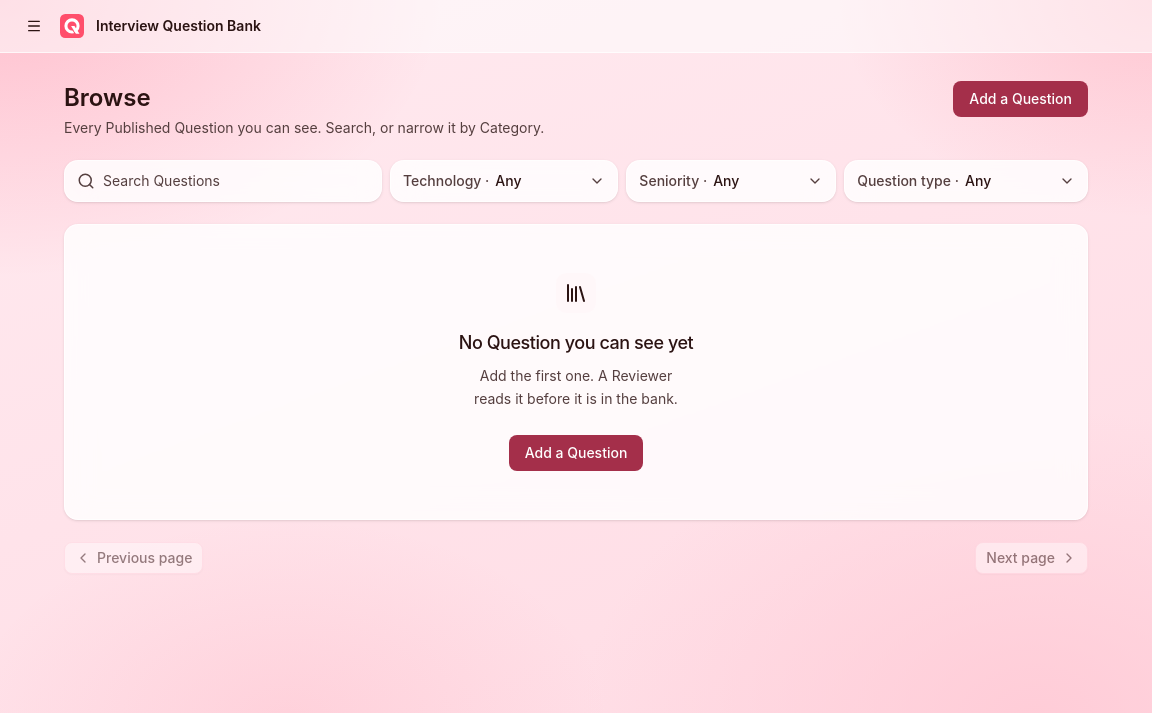
Test: adding a Question › sends the text, Answer Notes, Tags and Provenance, then opens the new Question
The width and height of the screenshot is (1152, 713).
Note: Browse's own button, not the sidebar's link to the same page.
Click the link "Add a Question" in the row of "Browse" at (1021, 99), box [953,81,1088,117]
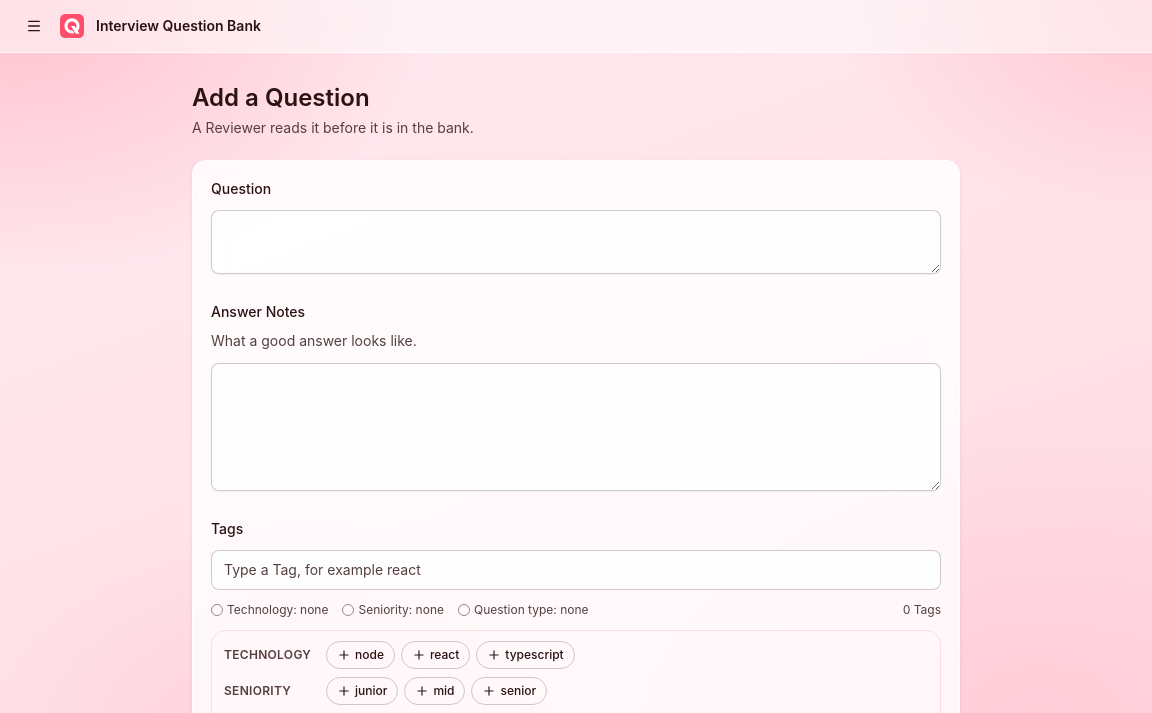
Type "How would you find a slow query?" into the text box labelled "Question" at (576, 242), box [211,210,941,274]
Type "Look for EXPLAIN ANALYZE before any guessing." into the text box labelled "Answer Notes" at (576, 426), box [211,362,941,490]
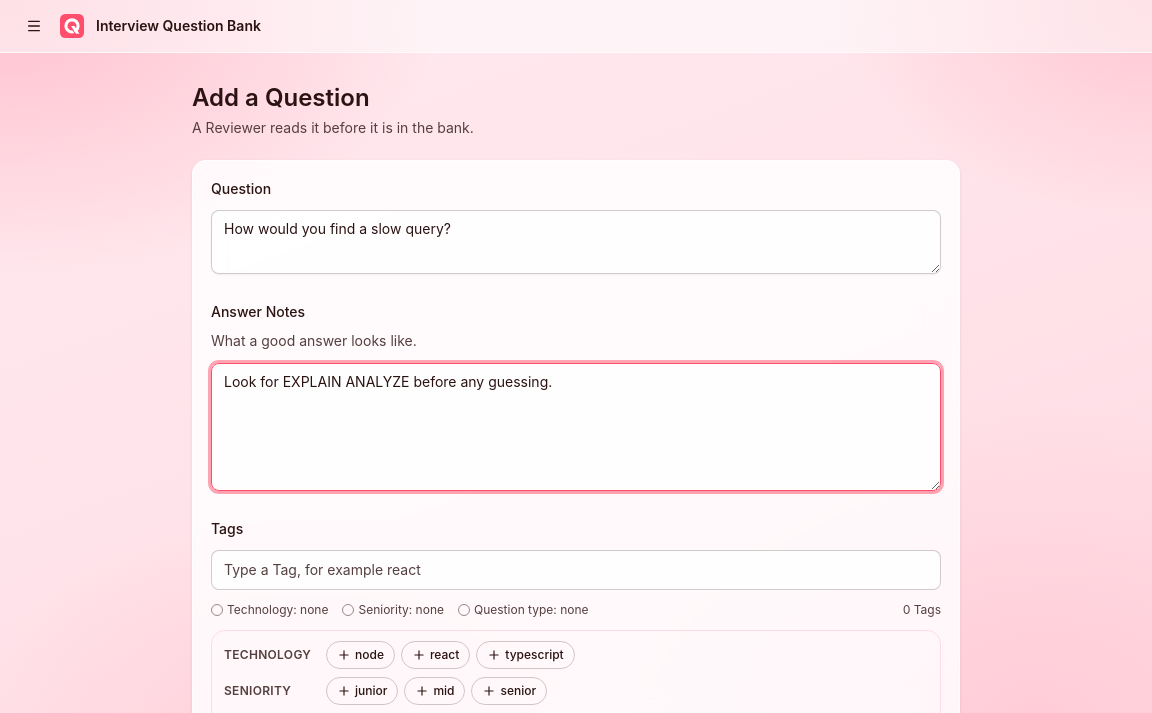
Click the button with aria-label "Add node" at (360, 655), box [326,641,395,669]
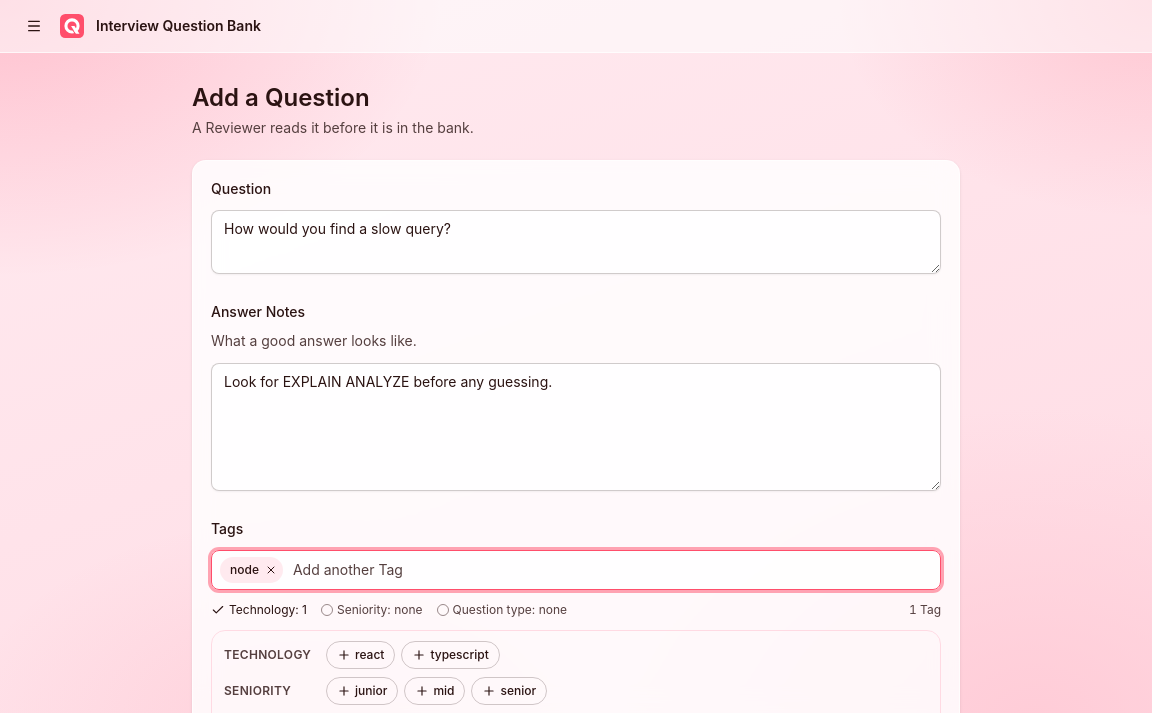
Click the button with aria-label "Add mid" at (435, 691), box [404,677,466,705]
(page scrolled)
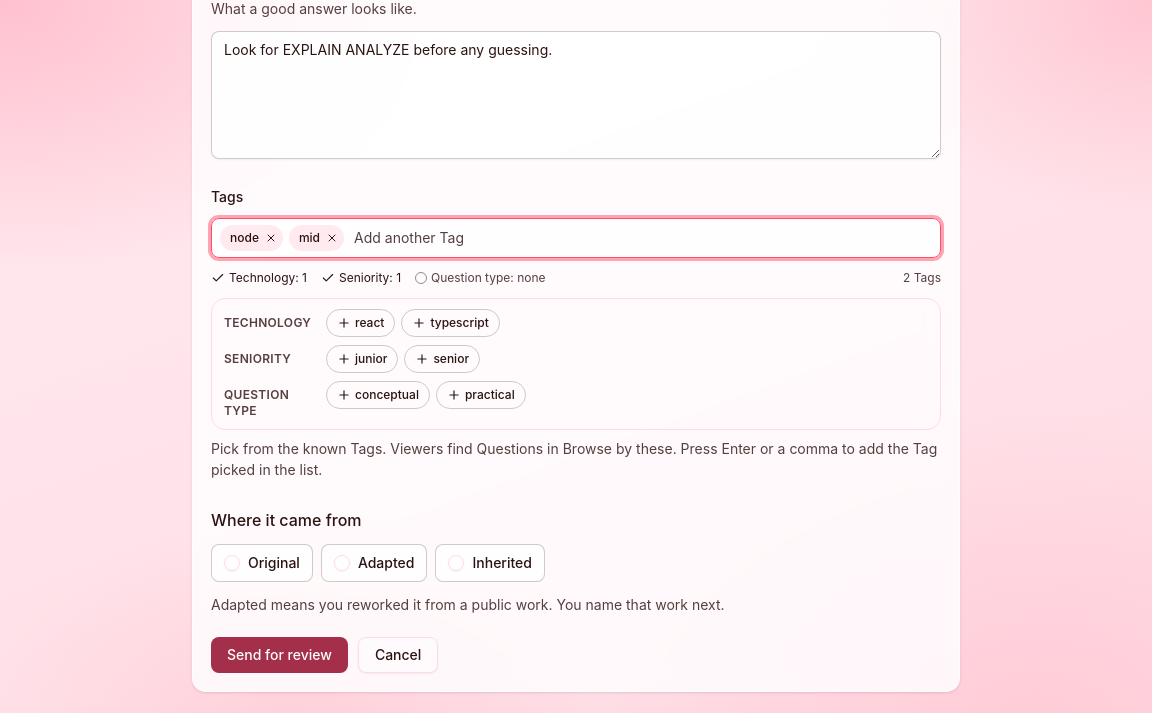
Click the radio button named "Original" next to "Original" at (232, 563), box [224,555,240,571]
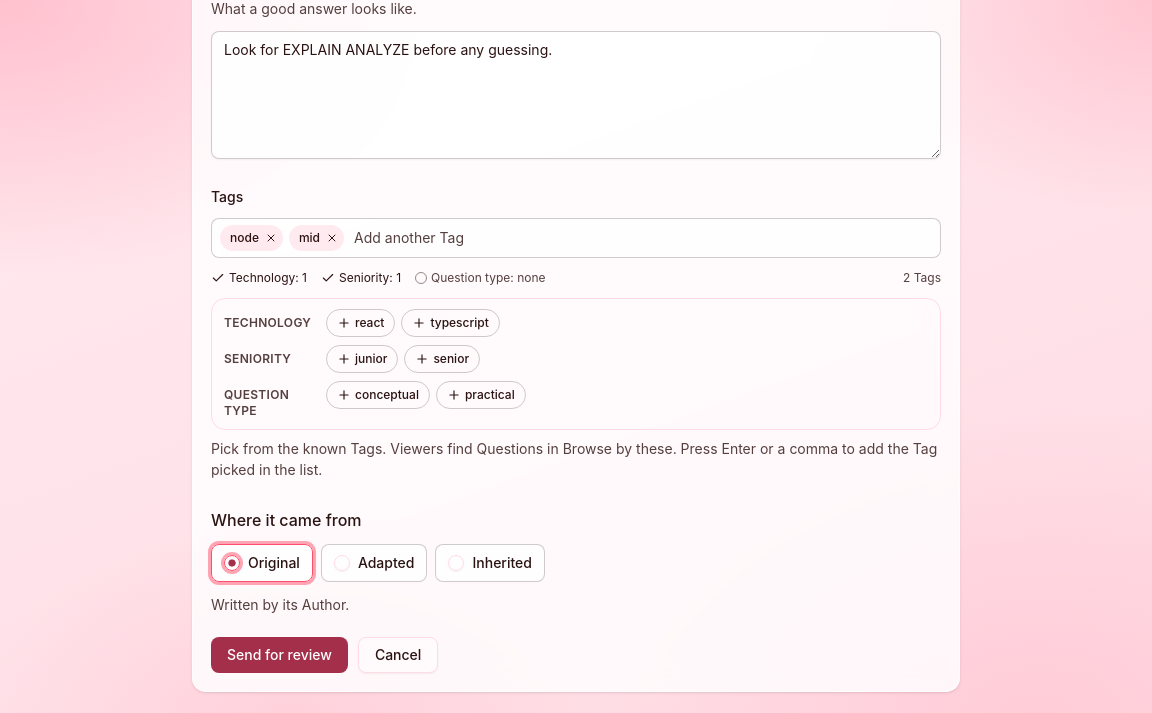
Click the button "Send for review" at (279, 655), box [211,637,348,673]
(page scrolled)
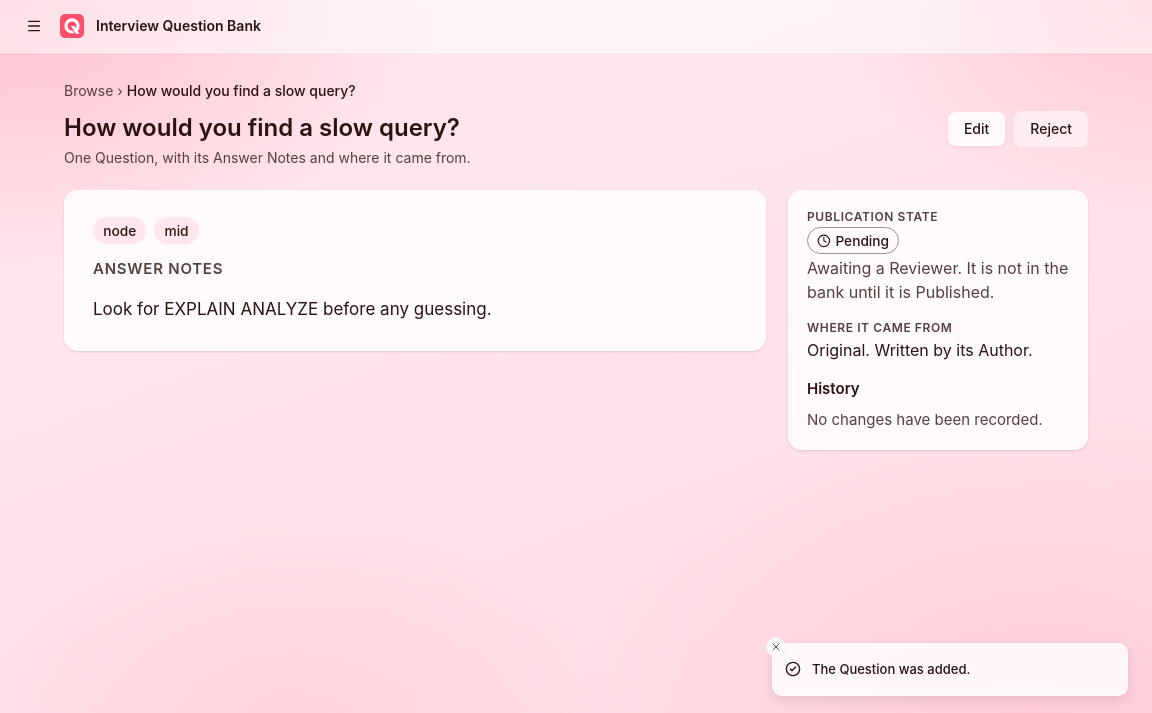
Expected: the heading "How would you find a slow query?" is shown, [64,113,460,142]
Expected: the text "The Question was added." is shown once, [812,660,970,679]
